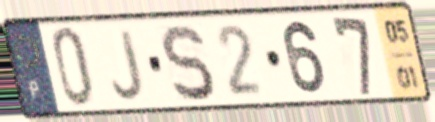0: (50, 24, 100, 111)
2: (217, 22, 267, 100)
6: (281, 18, 329, 97)
7: (329, 13, 372, 98)
J: (109, 27, 147, 104)
S: (158, 21, 217, 105)
